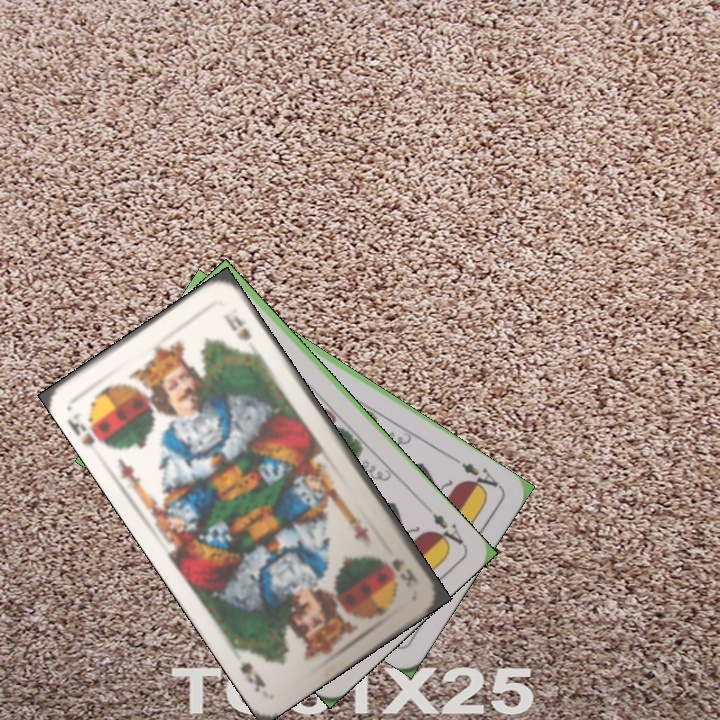EA: (450, 454, 503, 496), (428, 509, 467, 551)
SK: (64, 414, 98, 449), (387, 555, 421, 586)
